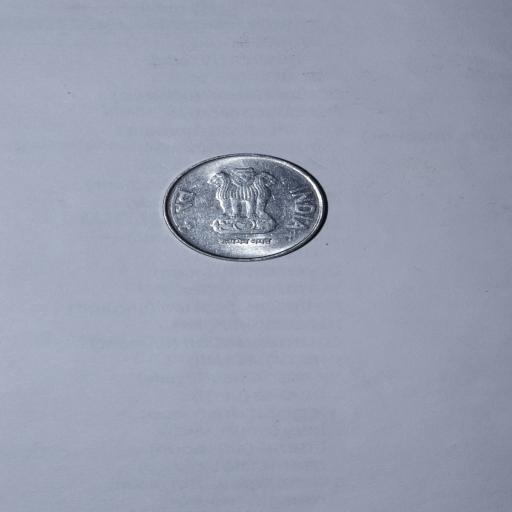rupee1: (158, 152, 329, 262)
